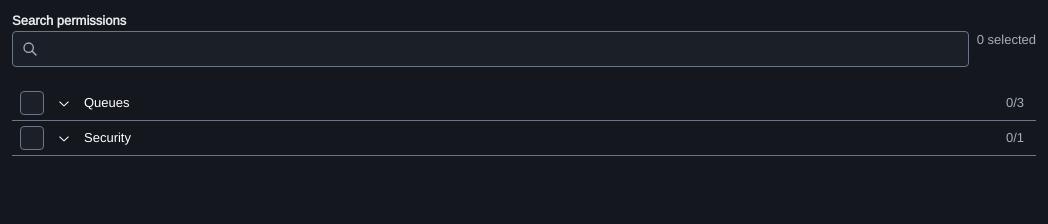
Test case: PermissionPicker › offers a team role only resource permissions and team:admin
Expected: the button with aria-label "Queues, 0 of 3 selected" is shown, x1=44 y1=86 x2=1036 y2=120
Click the button with aria-label "Security, 0 of 1 selected" at x=107, y=138, box x1=44 y1=121 x2=1036 y2=155
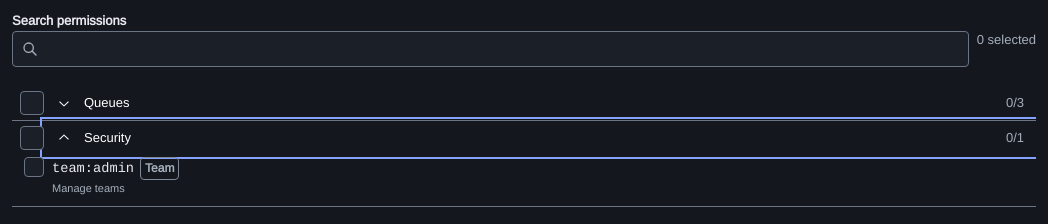
Now the checkbox labelled "team:admin Team" is shown, box x1=24 y1=157 x2=44 y2=177
Now the text "Team" is shown, box x1=140 y1=157 x2=179 y2=180
